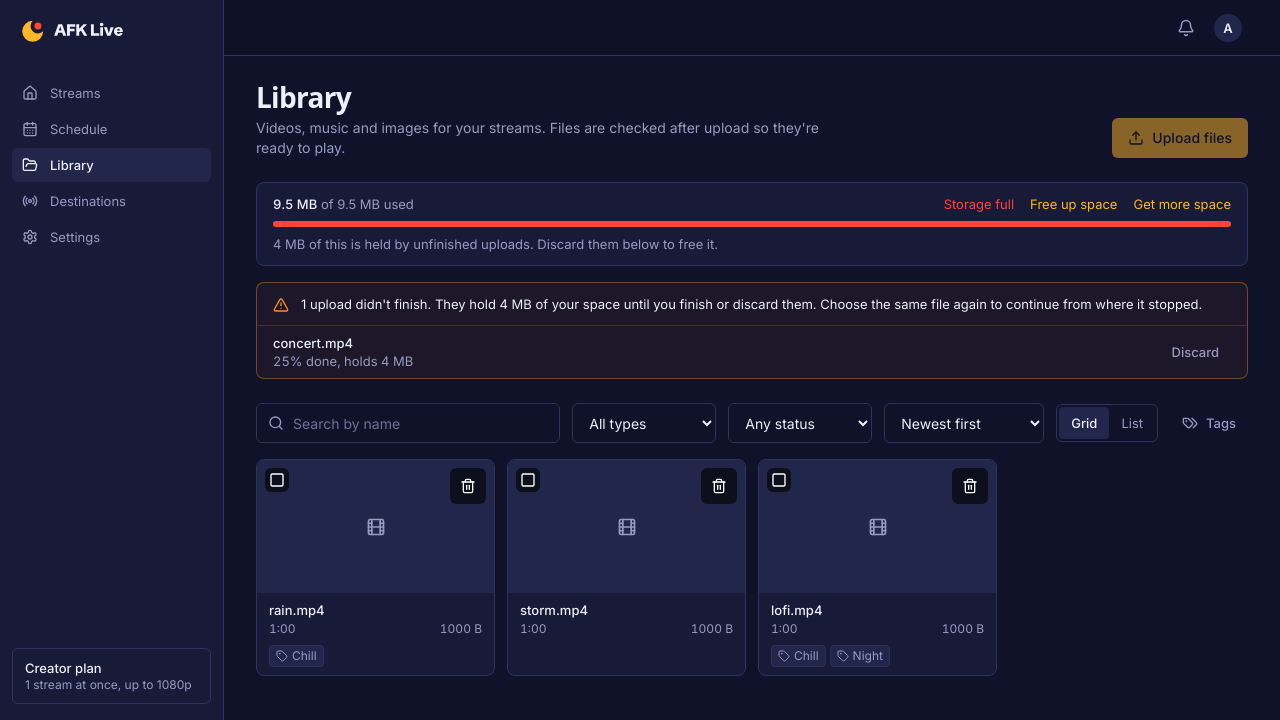
Test case: unfinished uploads (ML-1) › says how much space they hold and discards one to free it
expect the text "concert.mp4" is shown: met, box [273, 335, 353, 351]
expect the text "25% done, holds 4 MB" is shown: met, box [273, 353, 413, 369]
Click the button with aria-label "Discard concert.mp4". click: (1195, 352)
box: [1160, 336, 1231, 368]
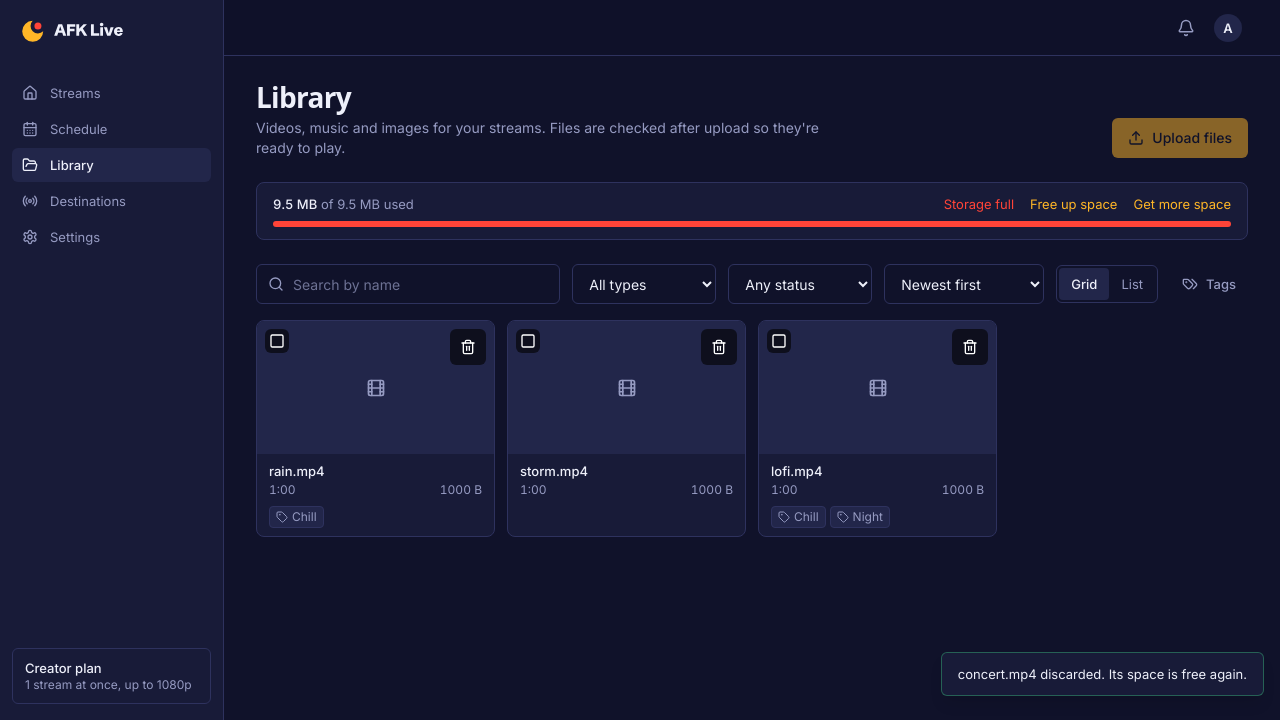
expect the text "unfinished uploads" is gone: met
